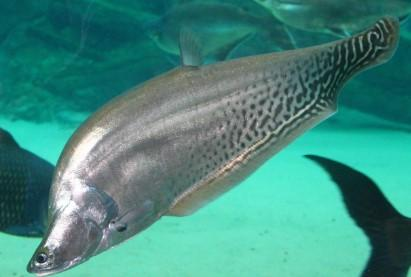Knifefish: (24, 18, 401, 276)
